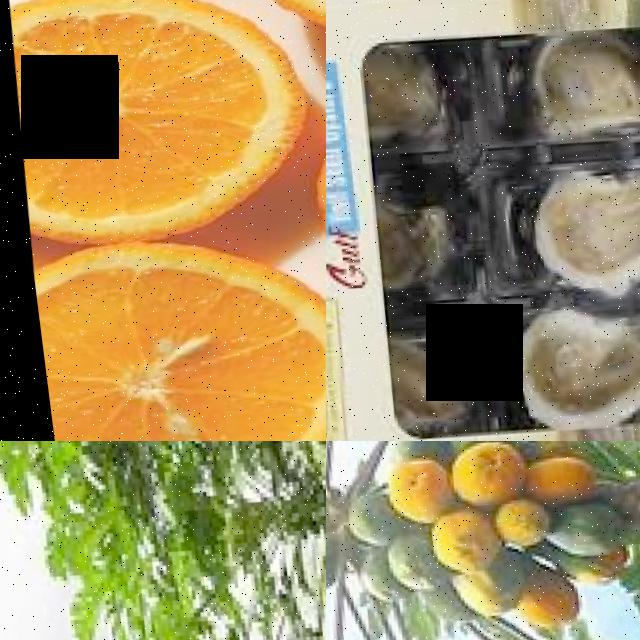orange: (0, 0, 298, 258), (22, 227, 326, 441)
oysters: (479, 302, 640, 441), (509, 159, 640, 311), (501, 27, 640, 156)
pawpaw: (437, 443, 515, 511), (415, 507, 486, 581), (371, 462, 441, 530), (533, 512, 611, 569), (438, 564, 512, 623), (502, 579, 567, 638), (514, 463, 590, 511)
